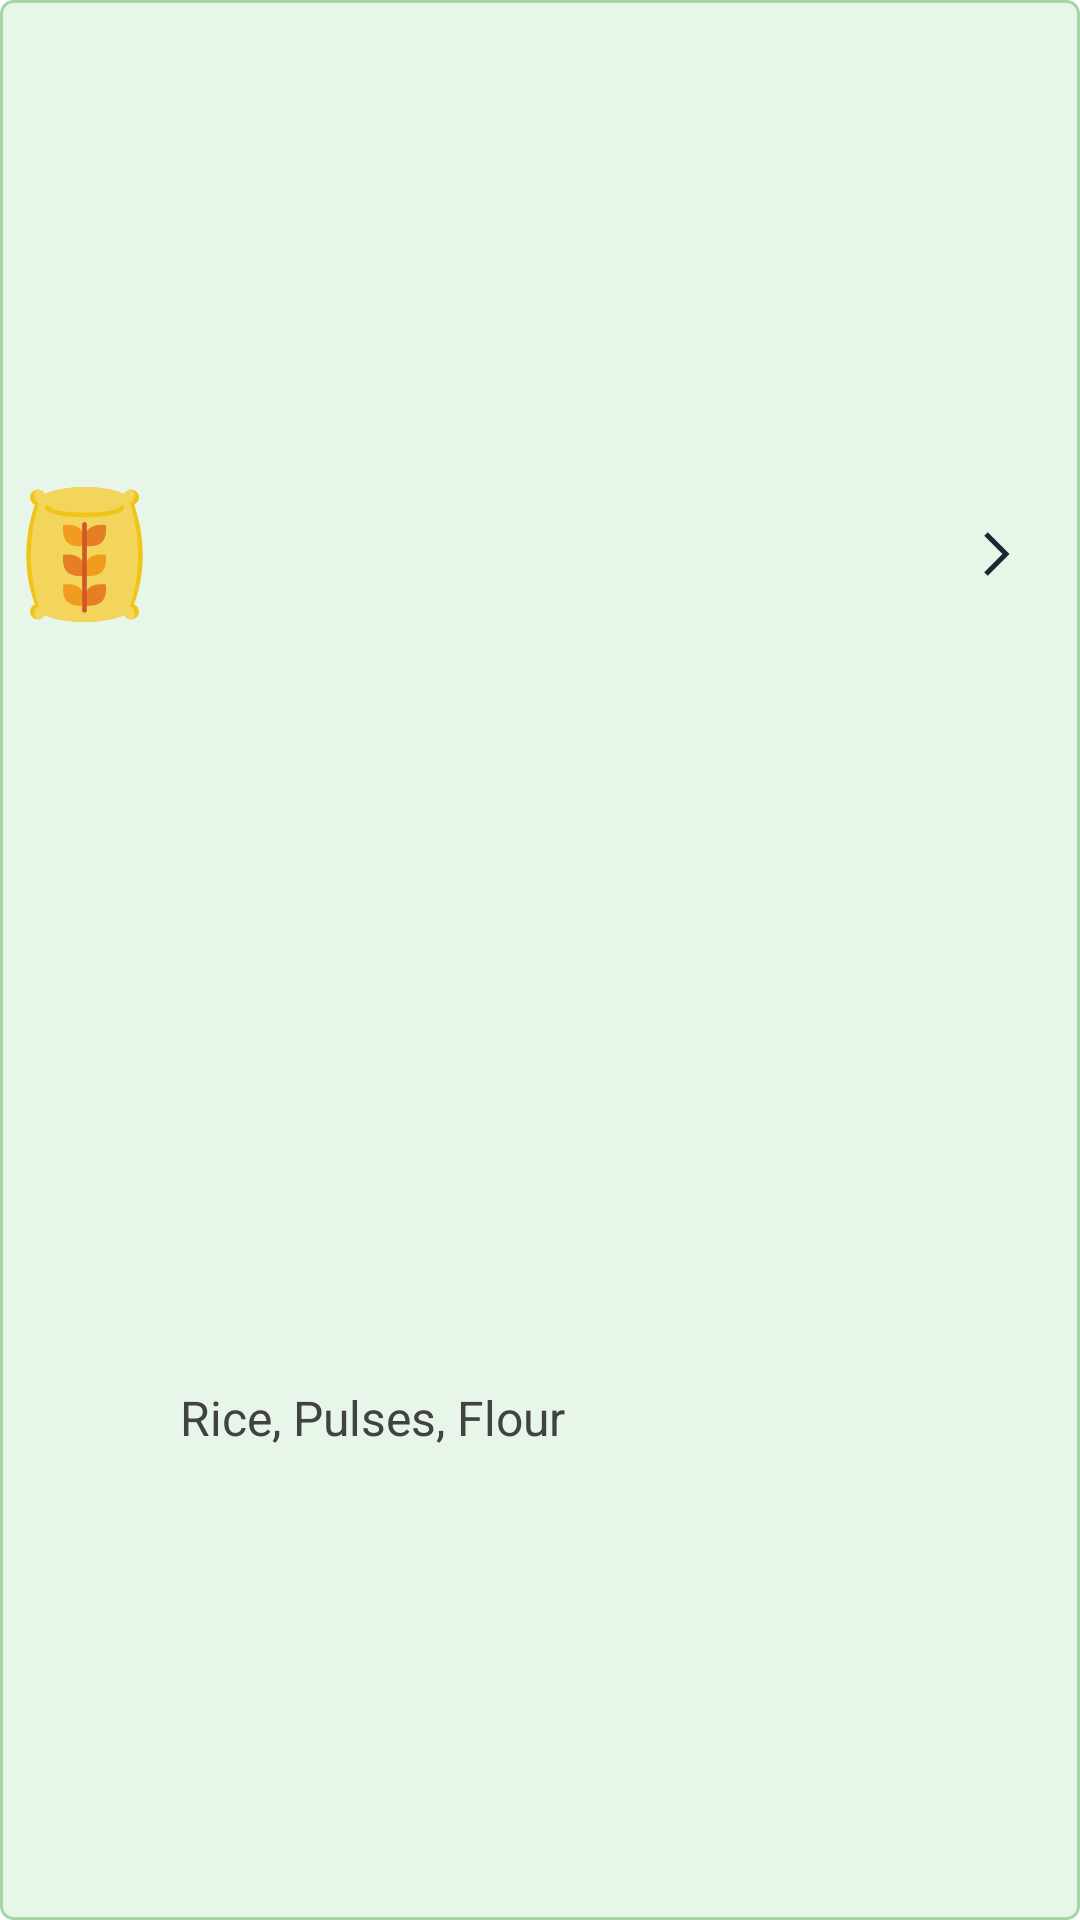

Icons on this 1080×1920 Android screen, each with its box as bbox(x1, y1, x2, y2):
flour: bbox(26, 487, 143, 622)
